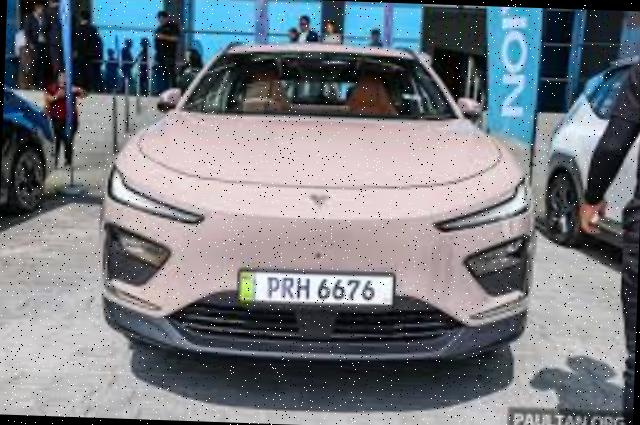License_Plate: (236, 266, 397, 311)
car: (97, 33, 543, 369)
